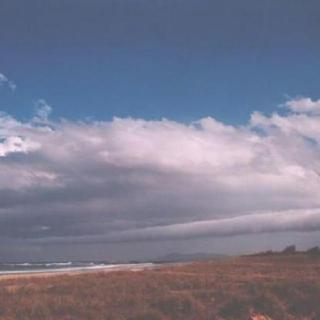Cumulus: (0, 0, 320, 271)
